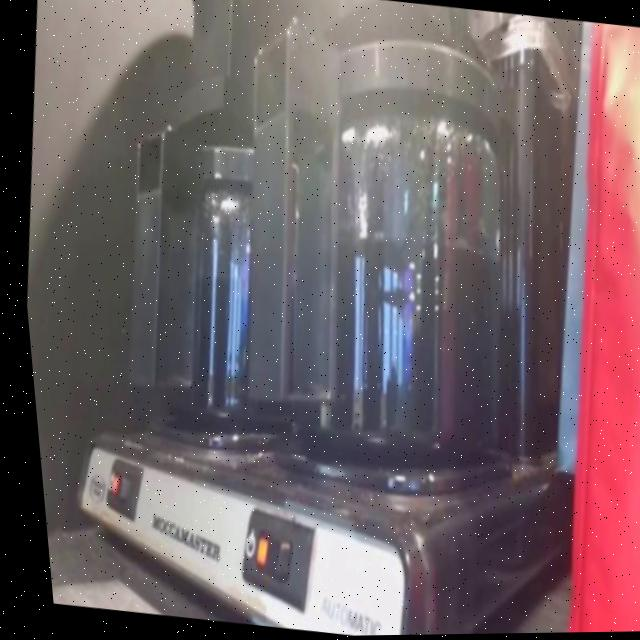coffee: (209, 13, 550, 488), (88, 100, 326, 468)
